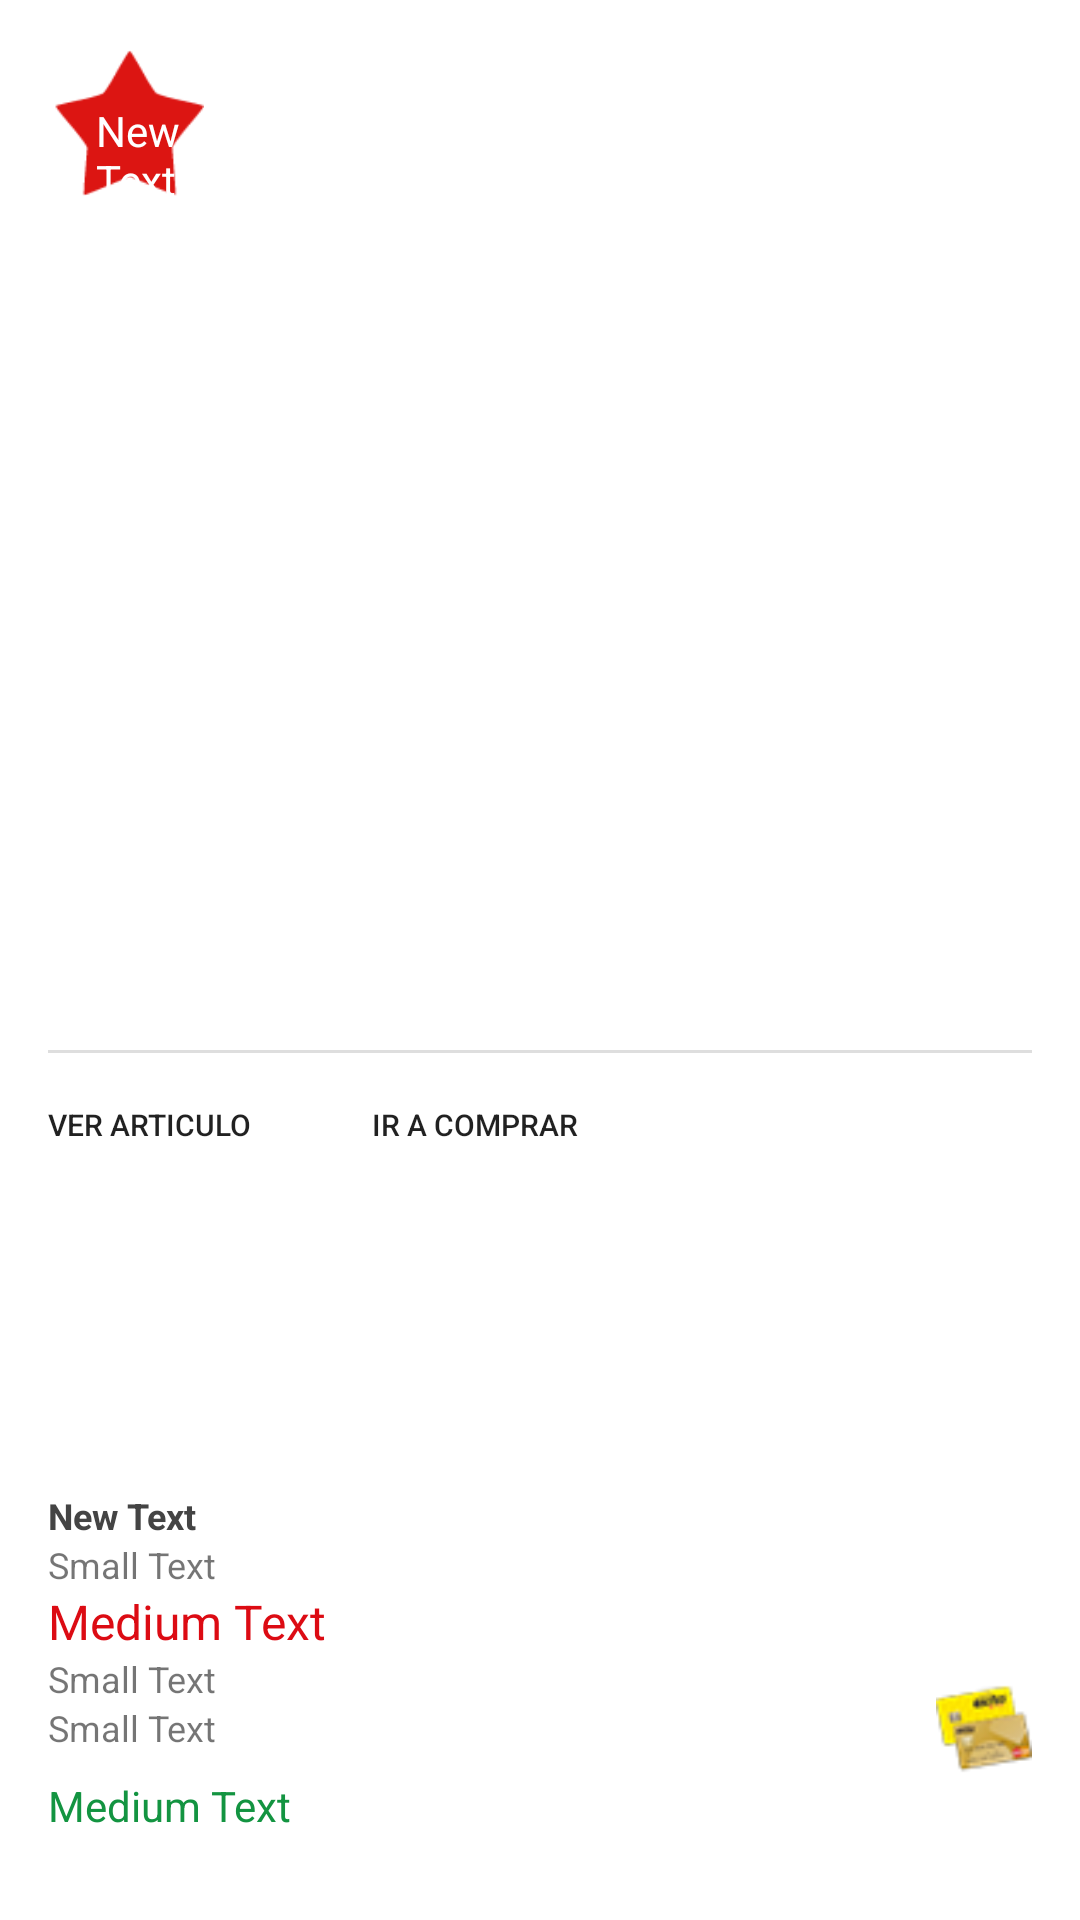

Icons on this 1080px x 1920px Android screen, each with its box as [left=x1, top=y1, right=x2, bottom=y2]:
estrella: [left=55, top=51, right=204, bottom=195]
